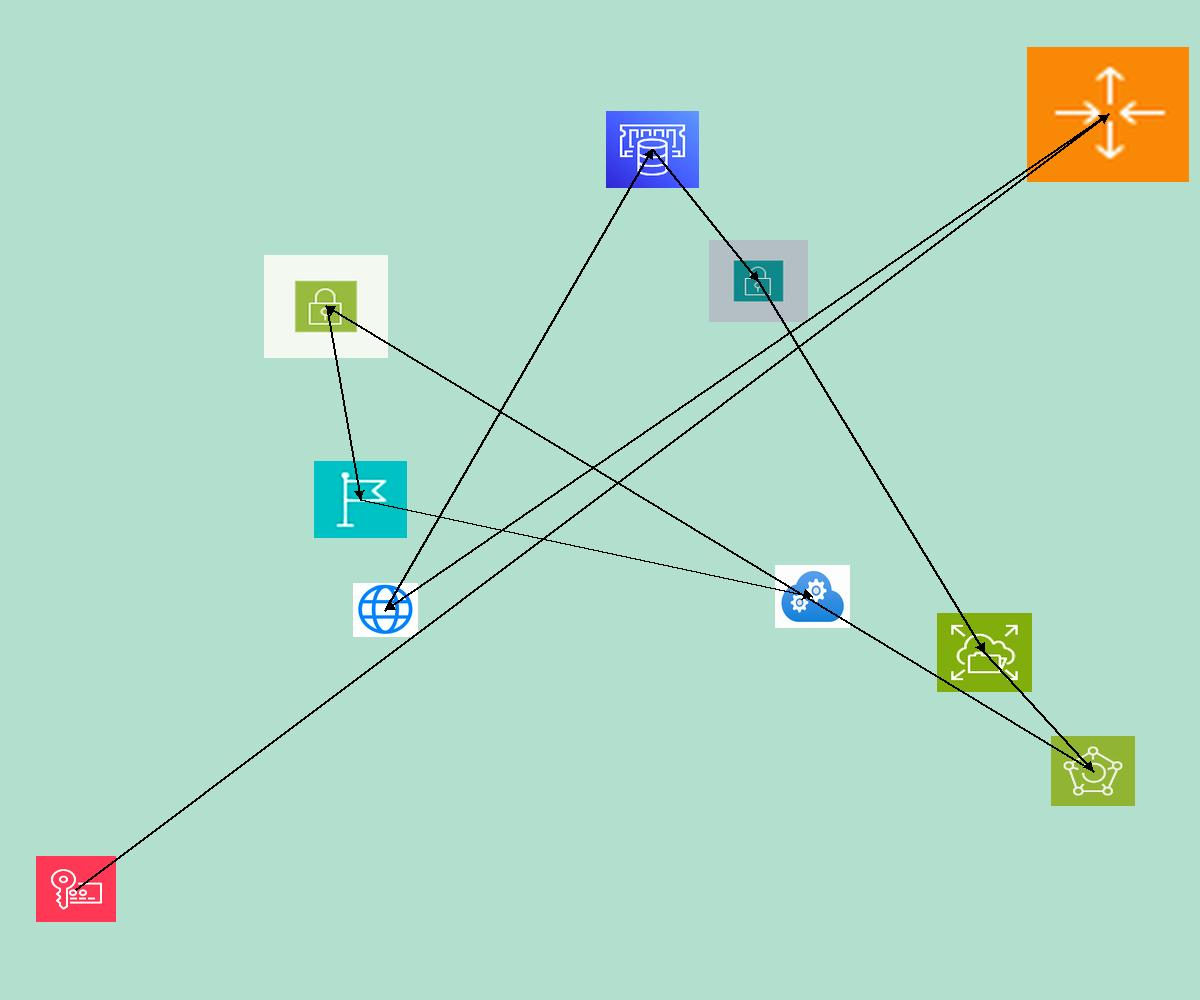AWS-Backup: (1051, 736, 1135, 806)
AWS-EFS: (937, 613, 1032, 692)
AWS-ElastiCache: (606, 111, 699, 188)
AWS-Key-Management-Service: (36, 856, 116, 922)
AWS-Private-subnet: (709, 240, 808, 322)
AWS-Public-subnet: (264, 255, 388, 358)
AWS-Region: (314, 461, 407, 538)
AWS-Scaling-group: (1027, 47, 1189, 182)
Azure_cloud_services: (775, 565, 850, 628)
Azure_http: (353, 583, 418, 637)
